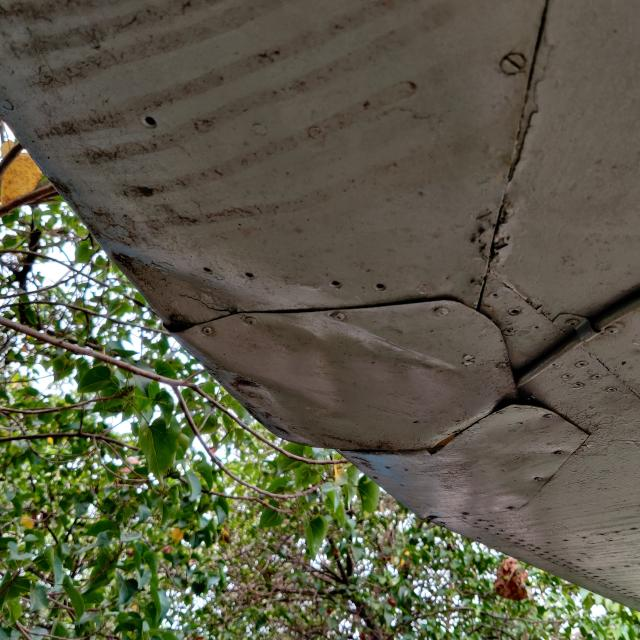dent: (106, 230, 474, 433)
